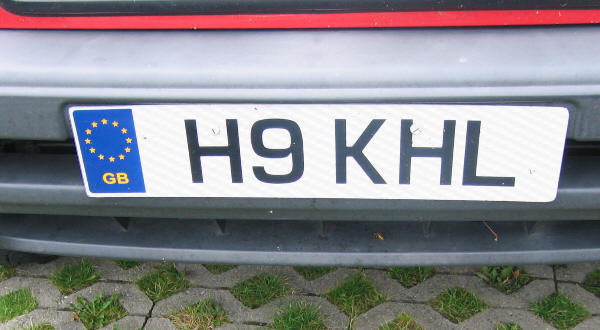license_plate: (69, 104, 570, 203)
